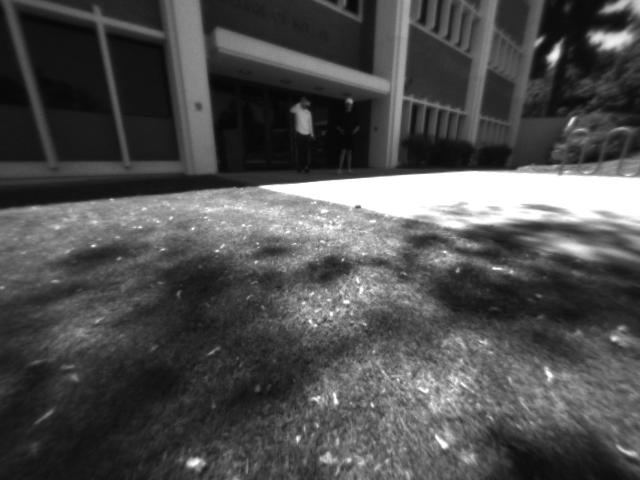dogtoy: (348, 197, 369, 217)
